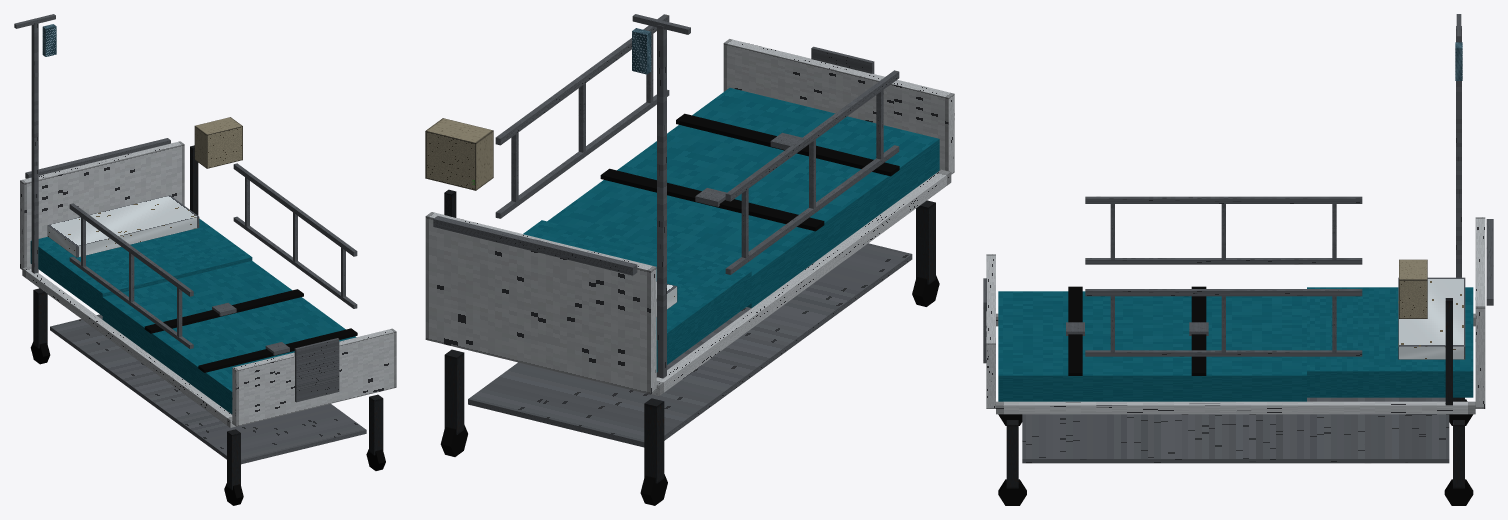
Rendered from quarantine_bed.glb.
3 views of the same model, side by side, from view 1: azimuth 30°, elevation 25°; view 2: azimuth 150°, elevation 25°; view 3: azimuth 270°, elevation 25° (orthographic). The views are drawn at different scales.
Parts seen in each view (by area): view 1: quarantine_bed; view 2: quarantine_bed; view 3: quarantine_bed.
Part boxes in pixels (x1,y1,x2,y2): quarantine_bed: [14, 14, 396, 505]; quarantine_bed: [425, 14, 954, 505]; quarantine_bed: [983, 14, 1493, 505].
Size of the model in its own units: 1.12 by 1.82 by 2.13.
Materials: 1 (1 with a texture image).
